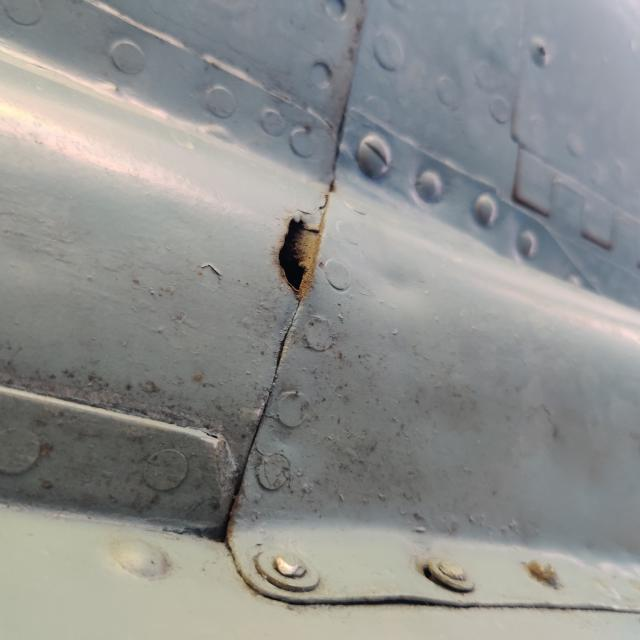crack: (322, 262, 448, 340)
